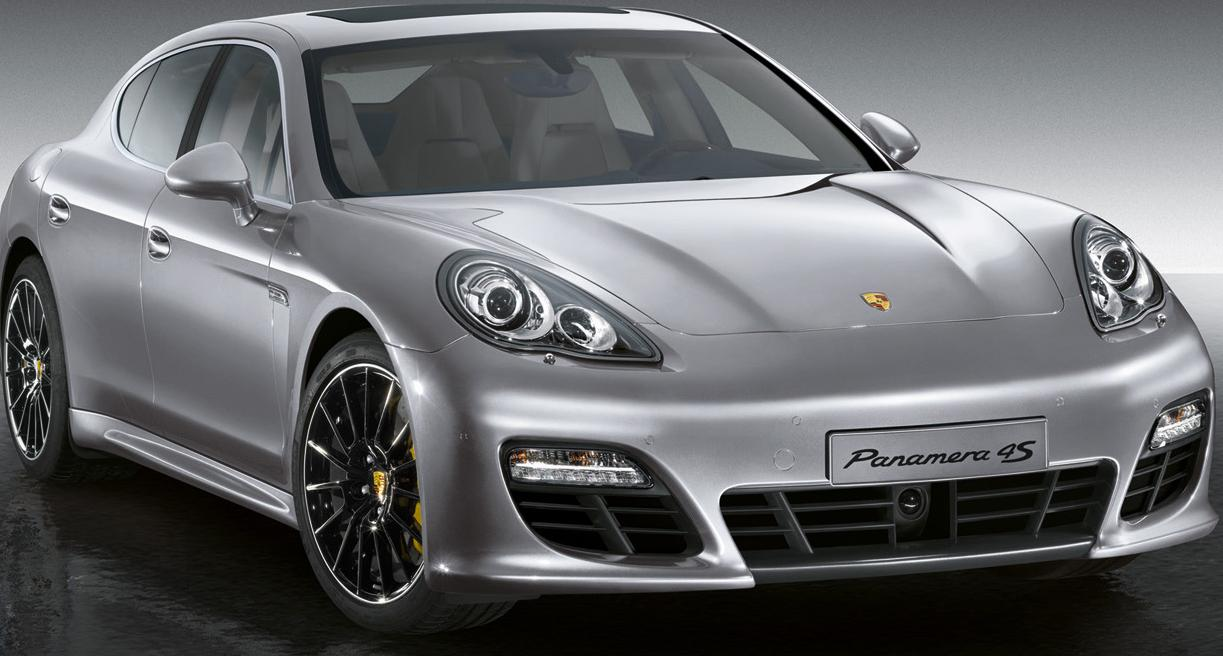front_view: (395, 192, 1209, 594)
headlight: (415, 253, 658, 367)
side_glass: (103, 53, 313, 219)
